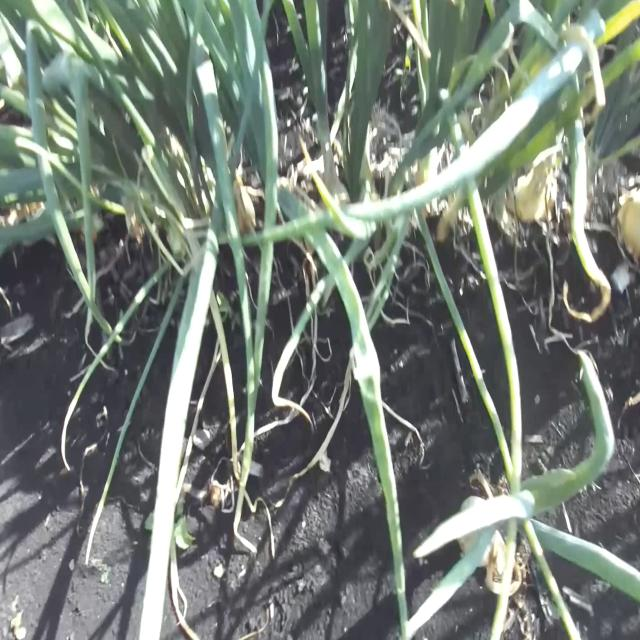onion: (457, 495, 497, 566), (511, 169, 551, 226), (617, 191, 640, 261)
